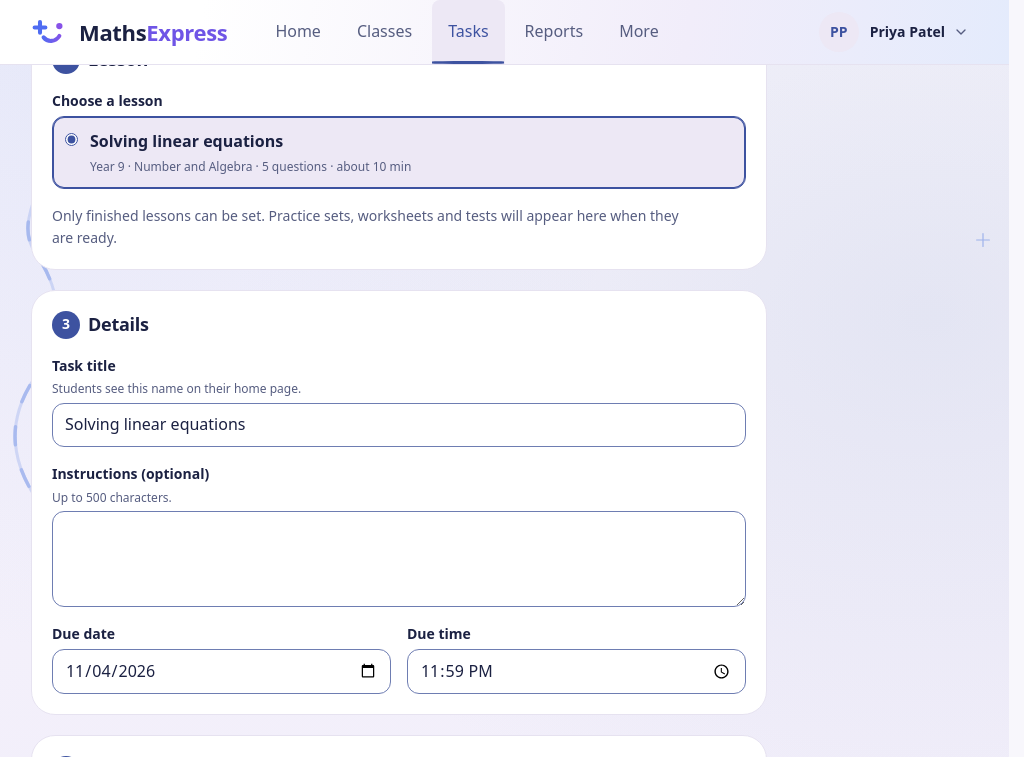
creating a task › explains what needs fixing beside each field
(page scrolled)
Clear the field labelled "Task title" at (399, 425), box [52, 403, 746, 447]
(page scrolled)
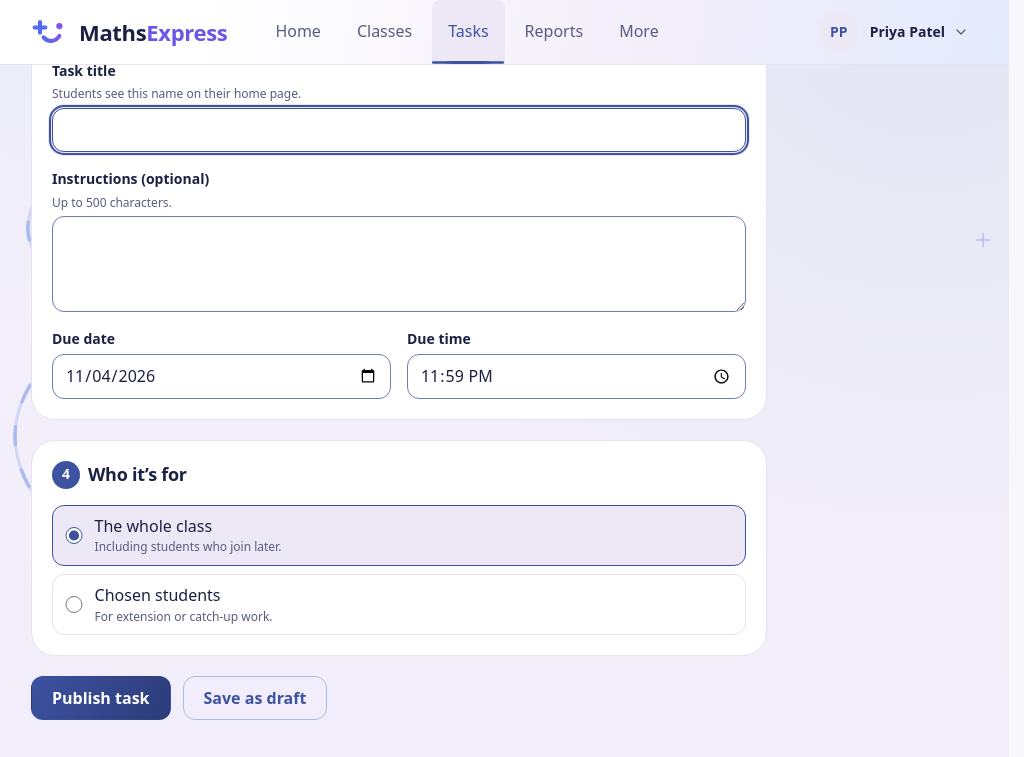
Click the button "Publish task" at (101, 698), box [31, 676, 171, 720]
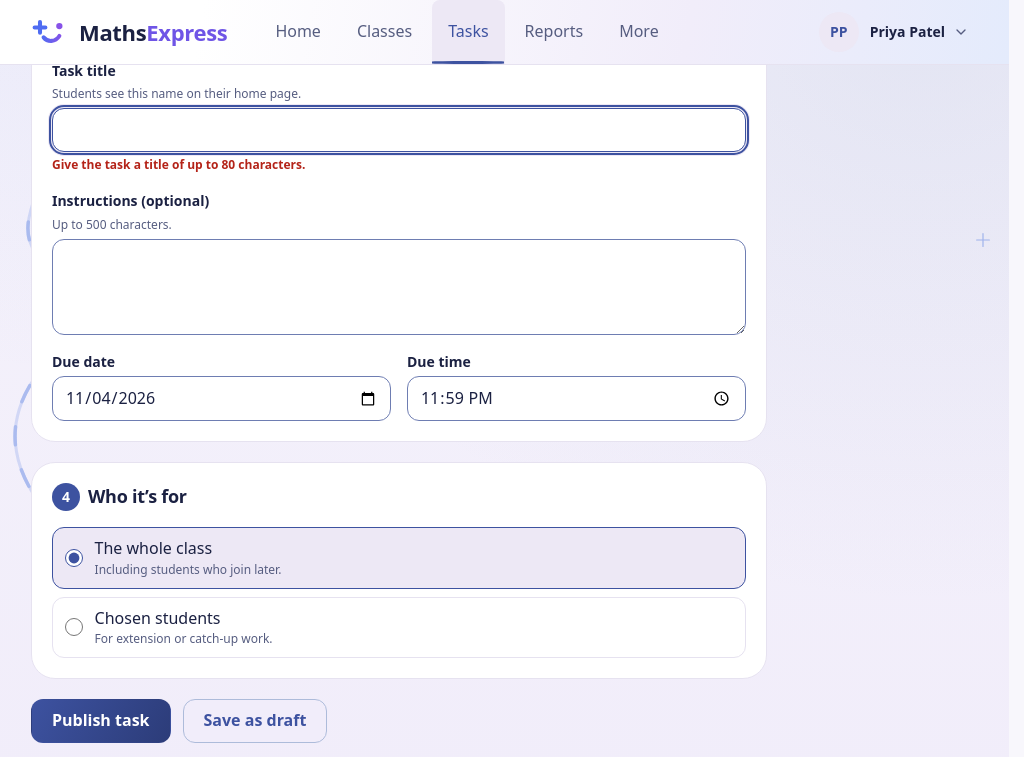
Type "Homework" into the field labelled "Task title" at (399, 130), box [52, 108, 746, 152]
Type "2026-10-01" into the date field labelled "Due date" at (222, 399), box [52, 376, 391, 421]
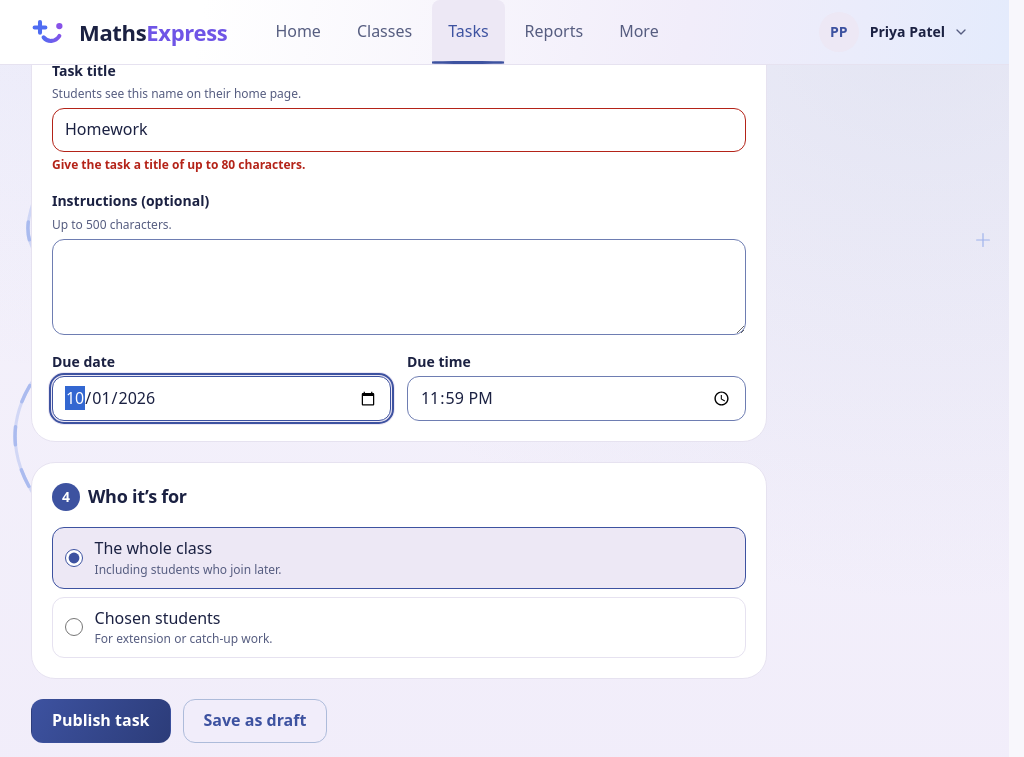
Click the button "Publish task" at (101, 721), box [31, 699, 171, 743]
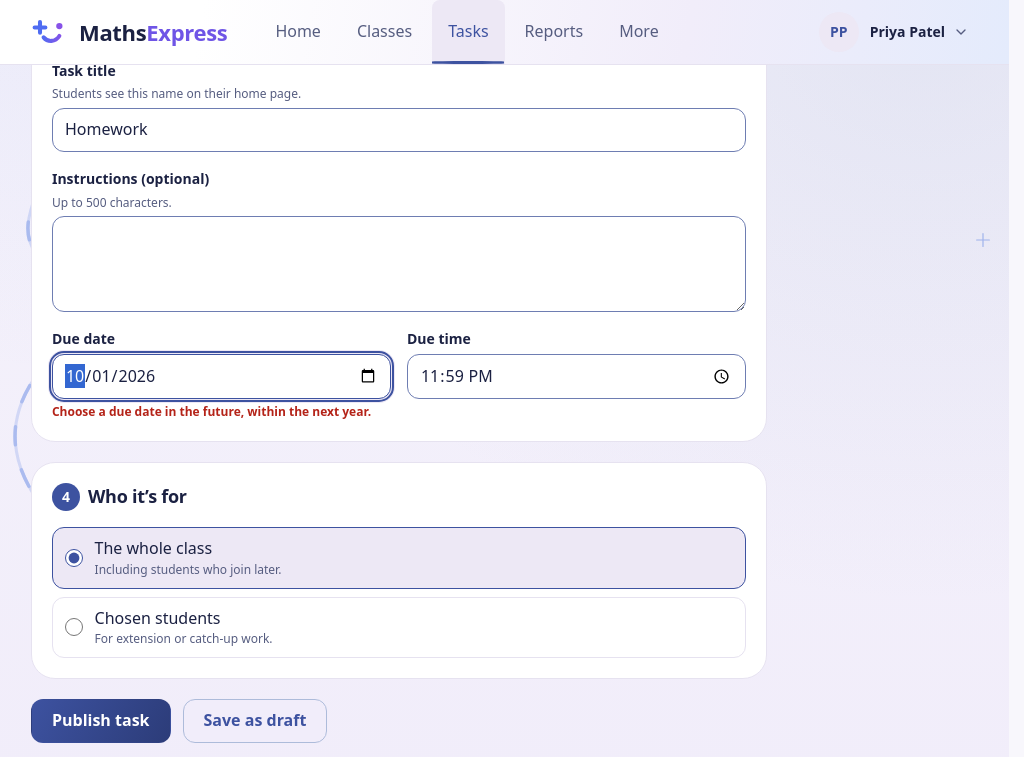
Type "2026-11-02" into the date field labelled "Due date" at (222, 376), box [52, 354, 391, 399]
Click the radio button labelled "Chosen students For extension or catch-up work." at (74, 627), box [65, 618, 83, 636]
(page scrolled)
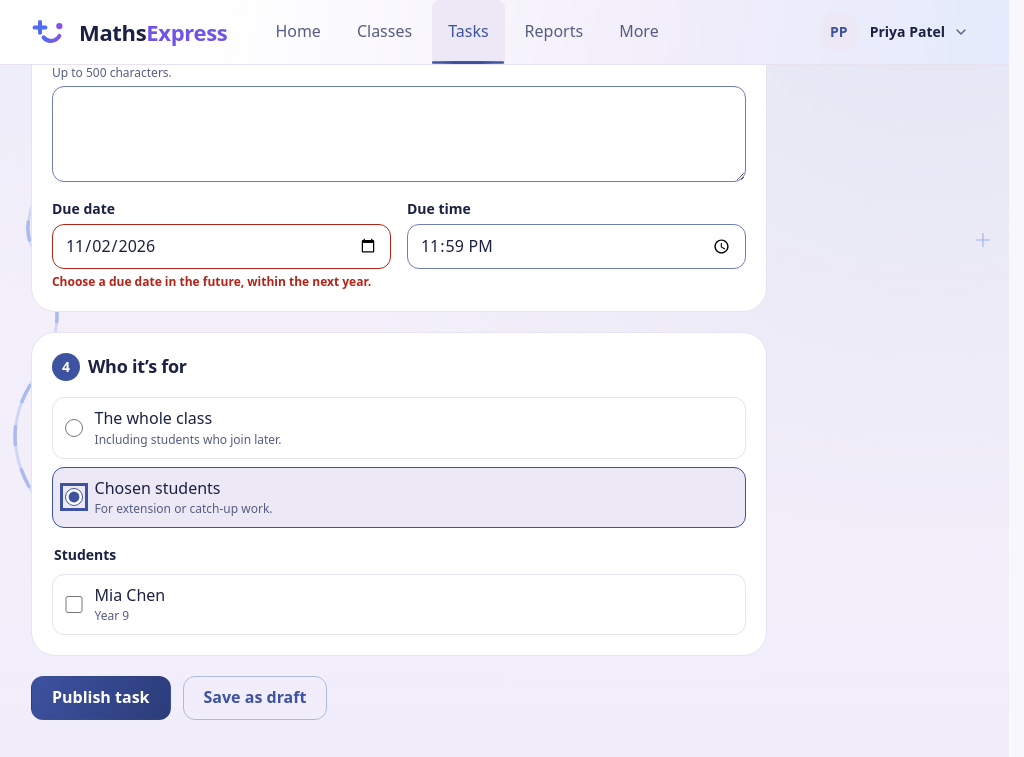
Click the button "Publish task" at (101, 698), box [31, 676, 171, 720]
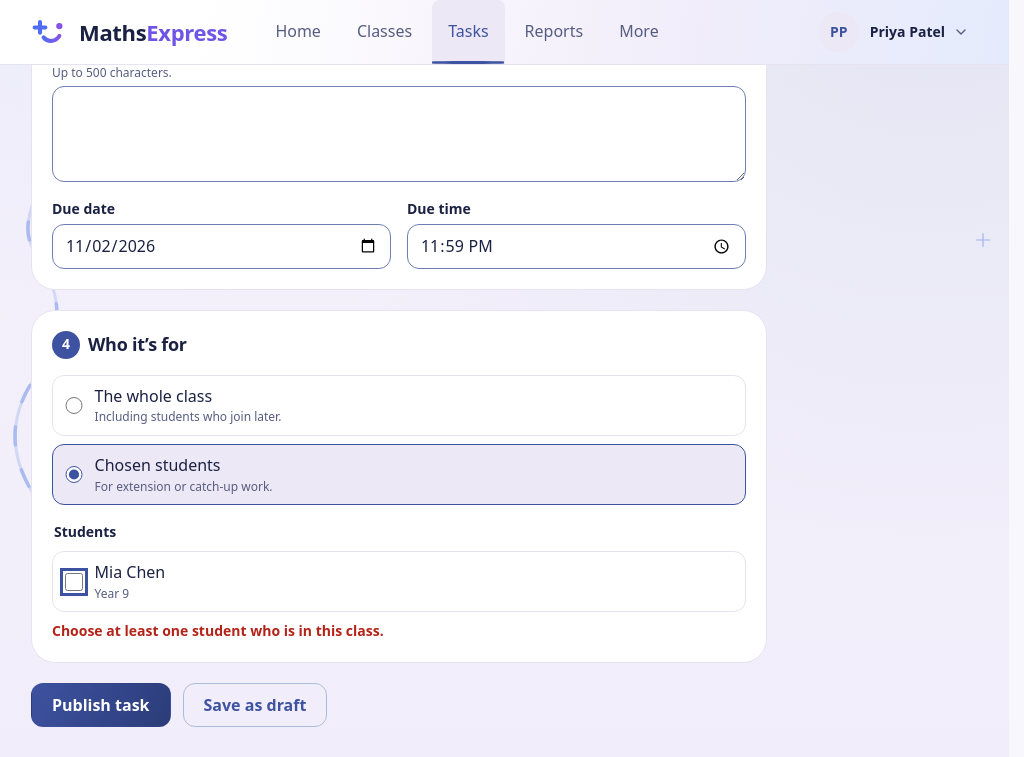
Expected: the text "Choose at least one student who is in this class." is shown, [52, 622, 384, 640]
